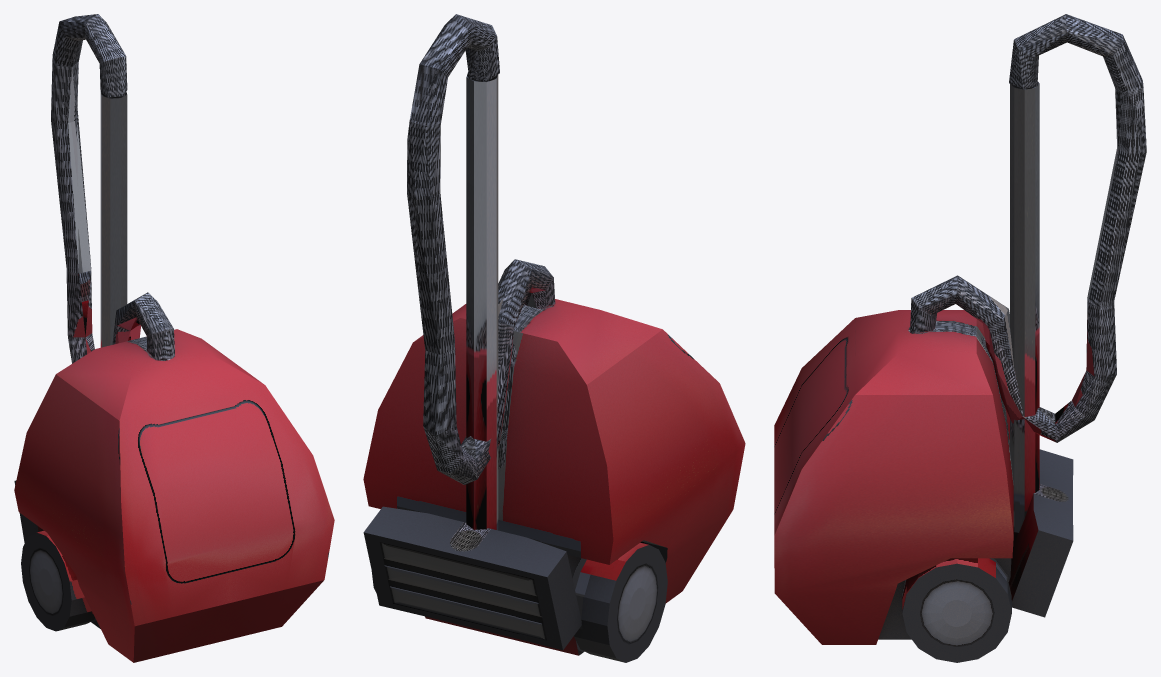
File: hover01.fbx
3 renders of one model, left to right at view 1: azimuth 30°, elevation 25°; view 2: azimuth 150°, elevation 25°; view 3: azimuth 270°, elevation 25°, orthographic. The views are drawn at different scales.
Parts seen in each view (by area): view 1: Cube.001; view 2: Cube.001; view 3: Cube.001.
Part boxes in pixels (x1=…): Cube.001: x1=14, y1=14, x2=334, y2=662; Cube.001: x1=363, y1=14, x2=745, y2=662; Cube.001: x1=774, y1=14, x2=1146, y2=662.
Bounding box in the file's own units: 0.4304 × 0.6129 × 1.08.
Materials: 1 (1 with a texture image).
